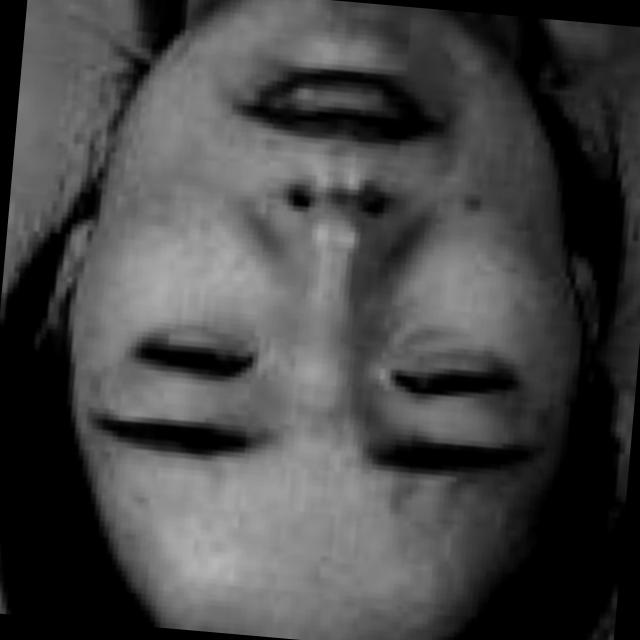sad: (58, 0, 594, 559)
